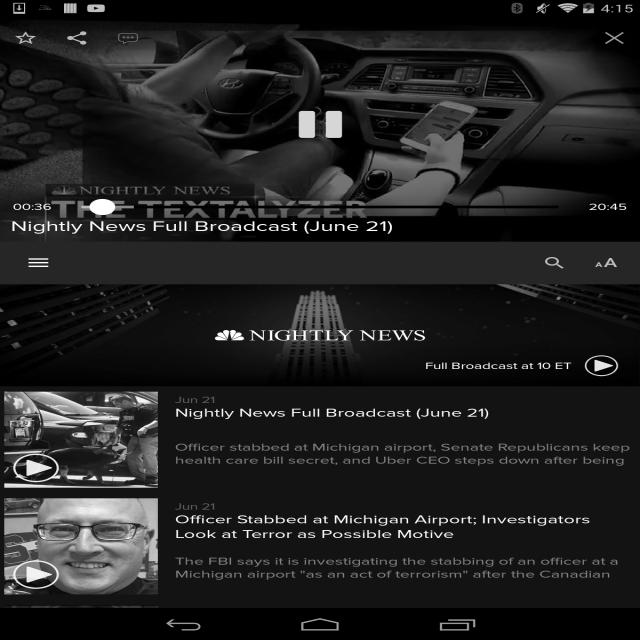ImageButton: (9, 242, 68, 284)
ImageView: (0, 284, 640, 386), (4, 392, 158, 488), (4, 498, 158, 594), (4, 605, 158, 640), (4, 448, 68, 488), (4, 555, 68, 594), (102, 17, 154, 59), (0, 17, 51, 59), (589, 17, 640, 59), (52, 17, 102, 59), (584, 355, 618, 376)
TextView: (175, 420, 636, 488), (175, 542, 636, 594), (175, 512, 636, 542), (175, 406, 636, 420), (425, 360, 572, 372), (580, 247, 632, 279), (529, 247, 580, 279), (175, 394, 215, 406), (175, 501, 215, 512), (175, 608, 215, 619)
